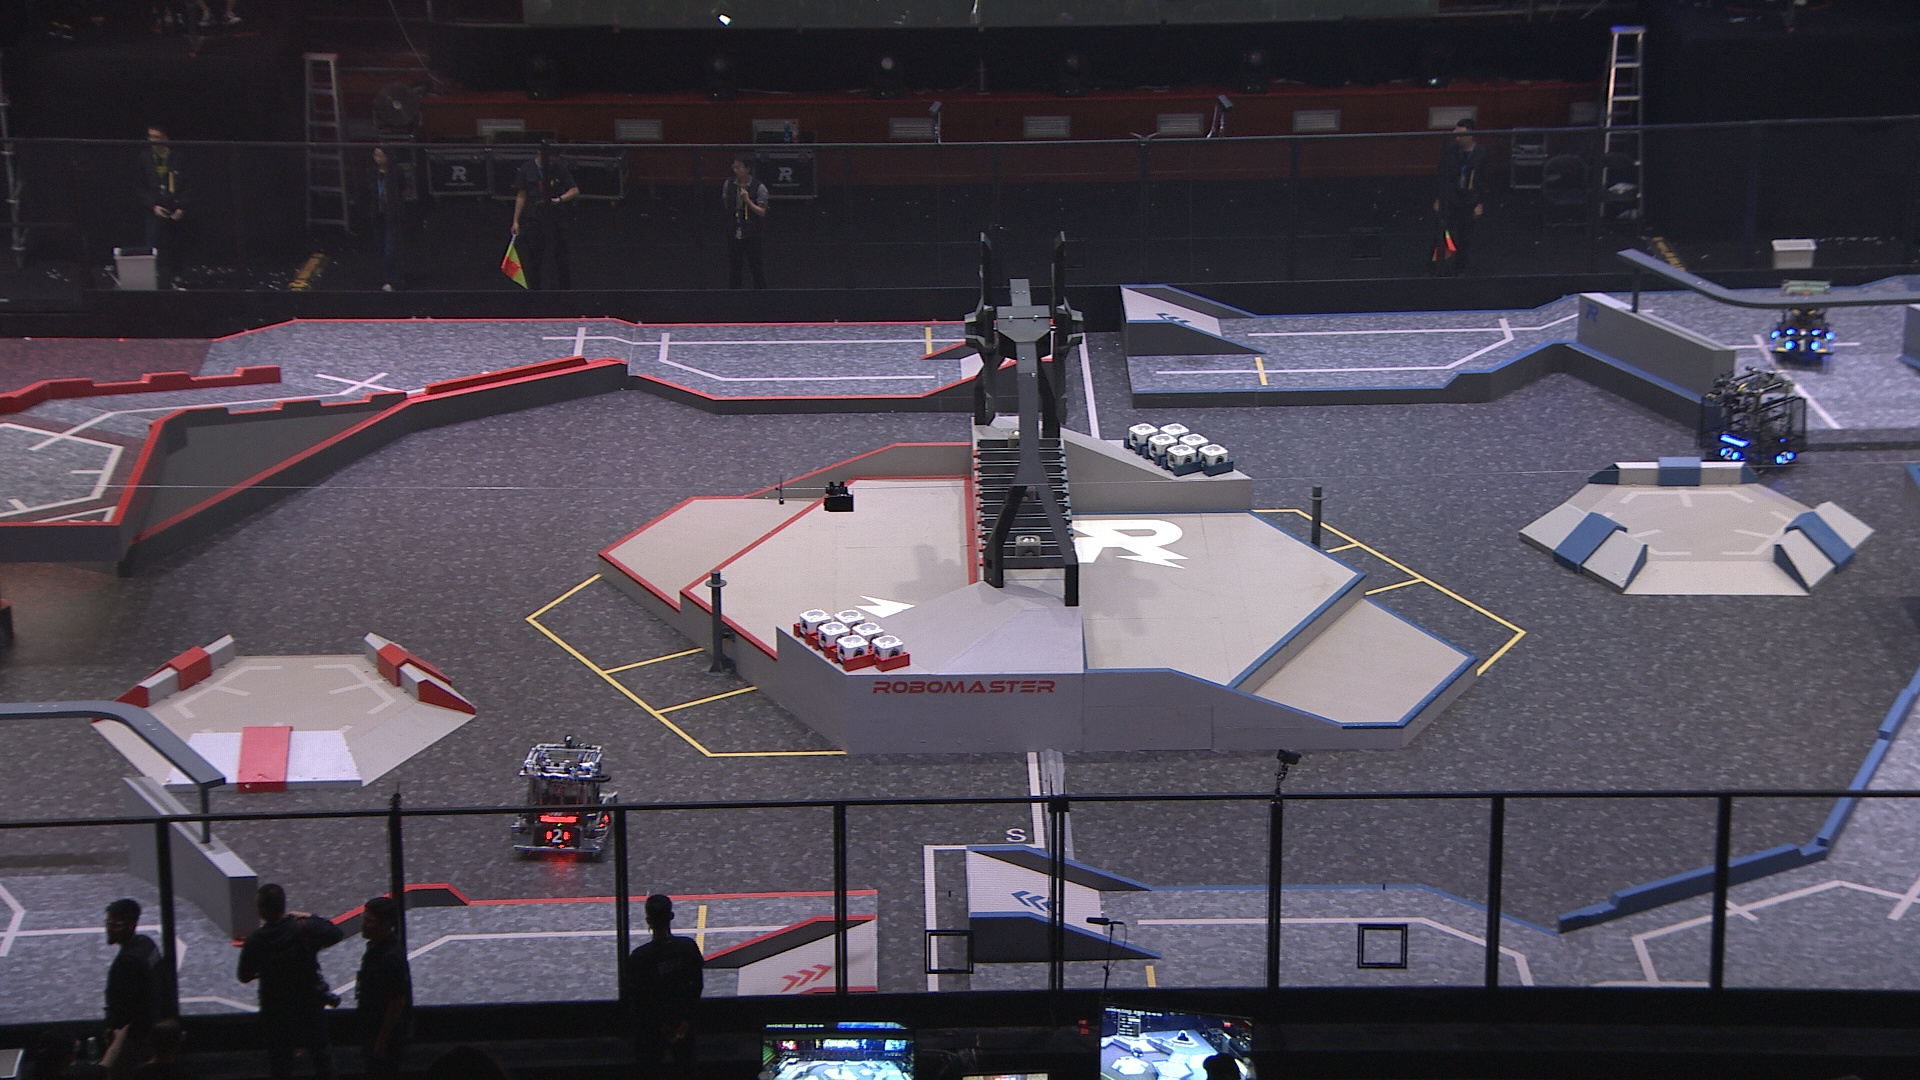armor: (545, 825, 572, 847), (1787, 338, 1820, 353), (1785, 324, 1821, 338), (1718, 446, 1742, 462), (1775, 451, 1793, 467)
car: (509, 733, 624, 865), (1695, 368, 1808, 479), (1771, 280, 1840, 361)
